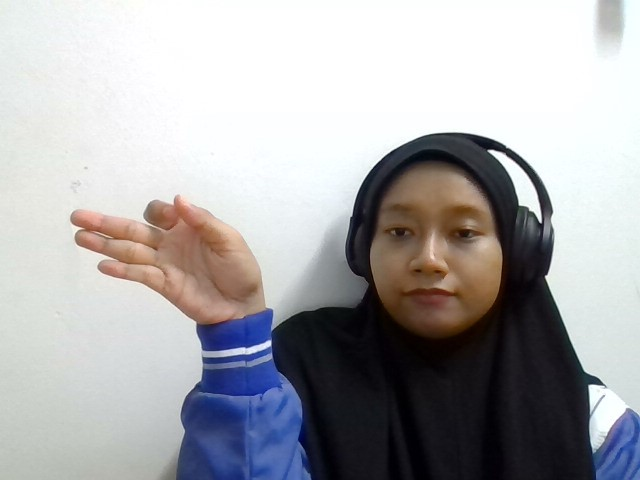Angsa: (71, 191, 264, 326)
